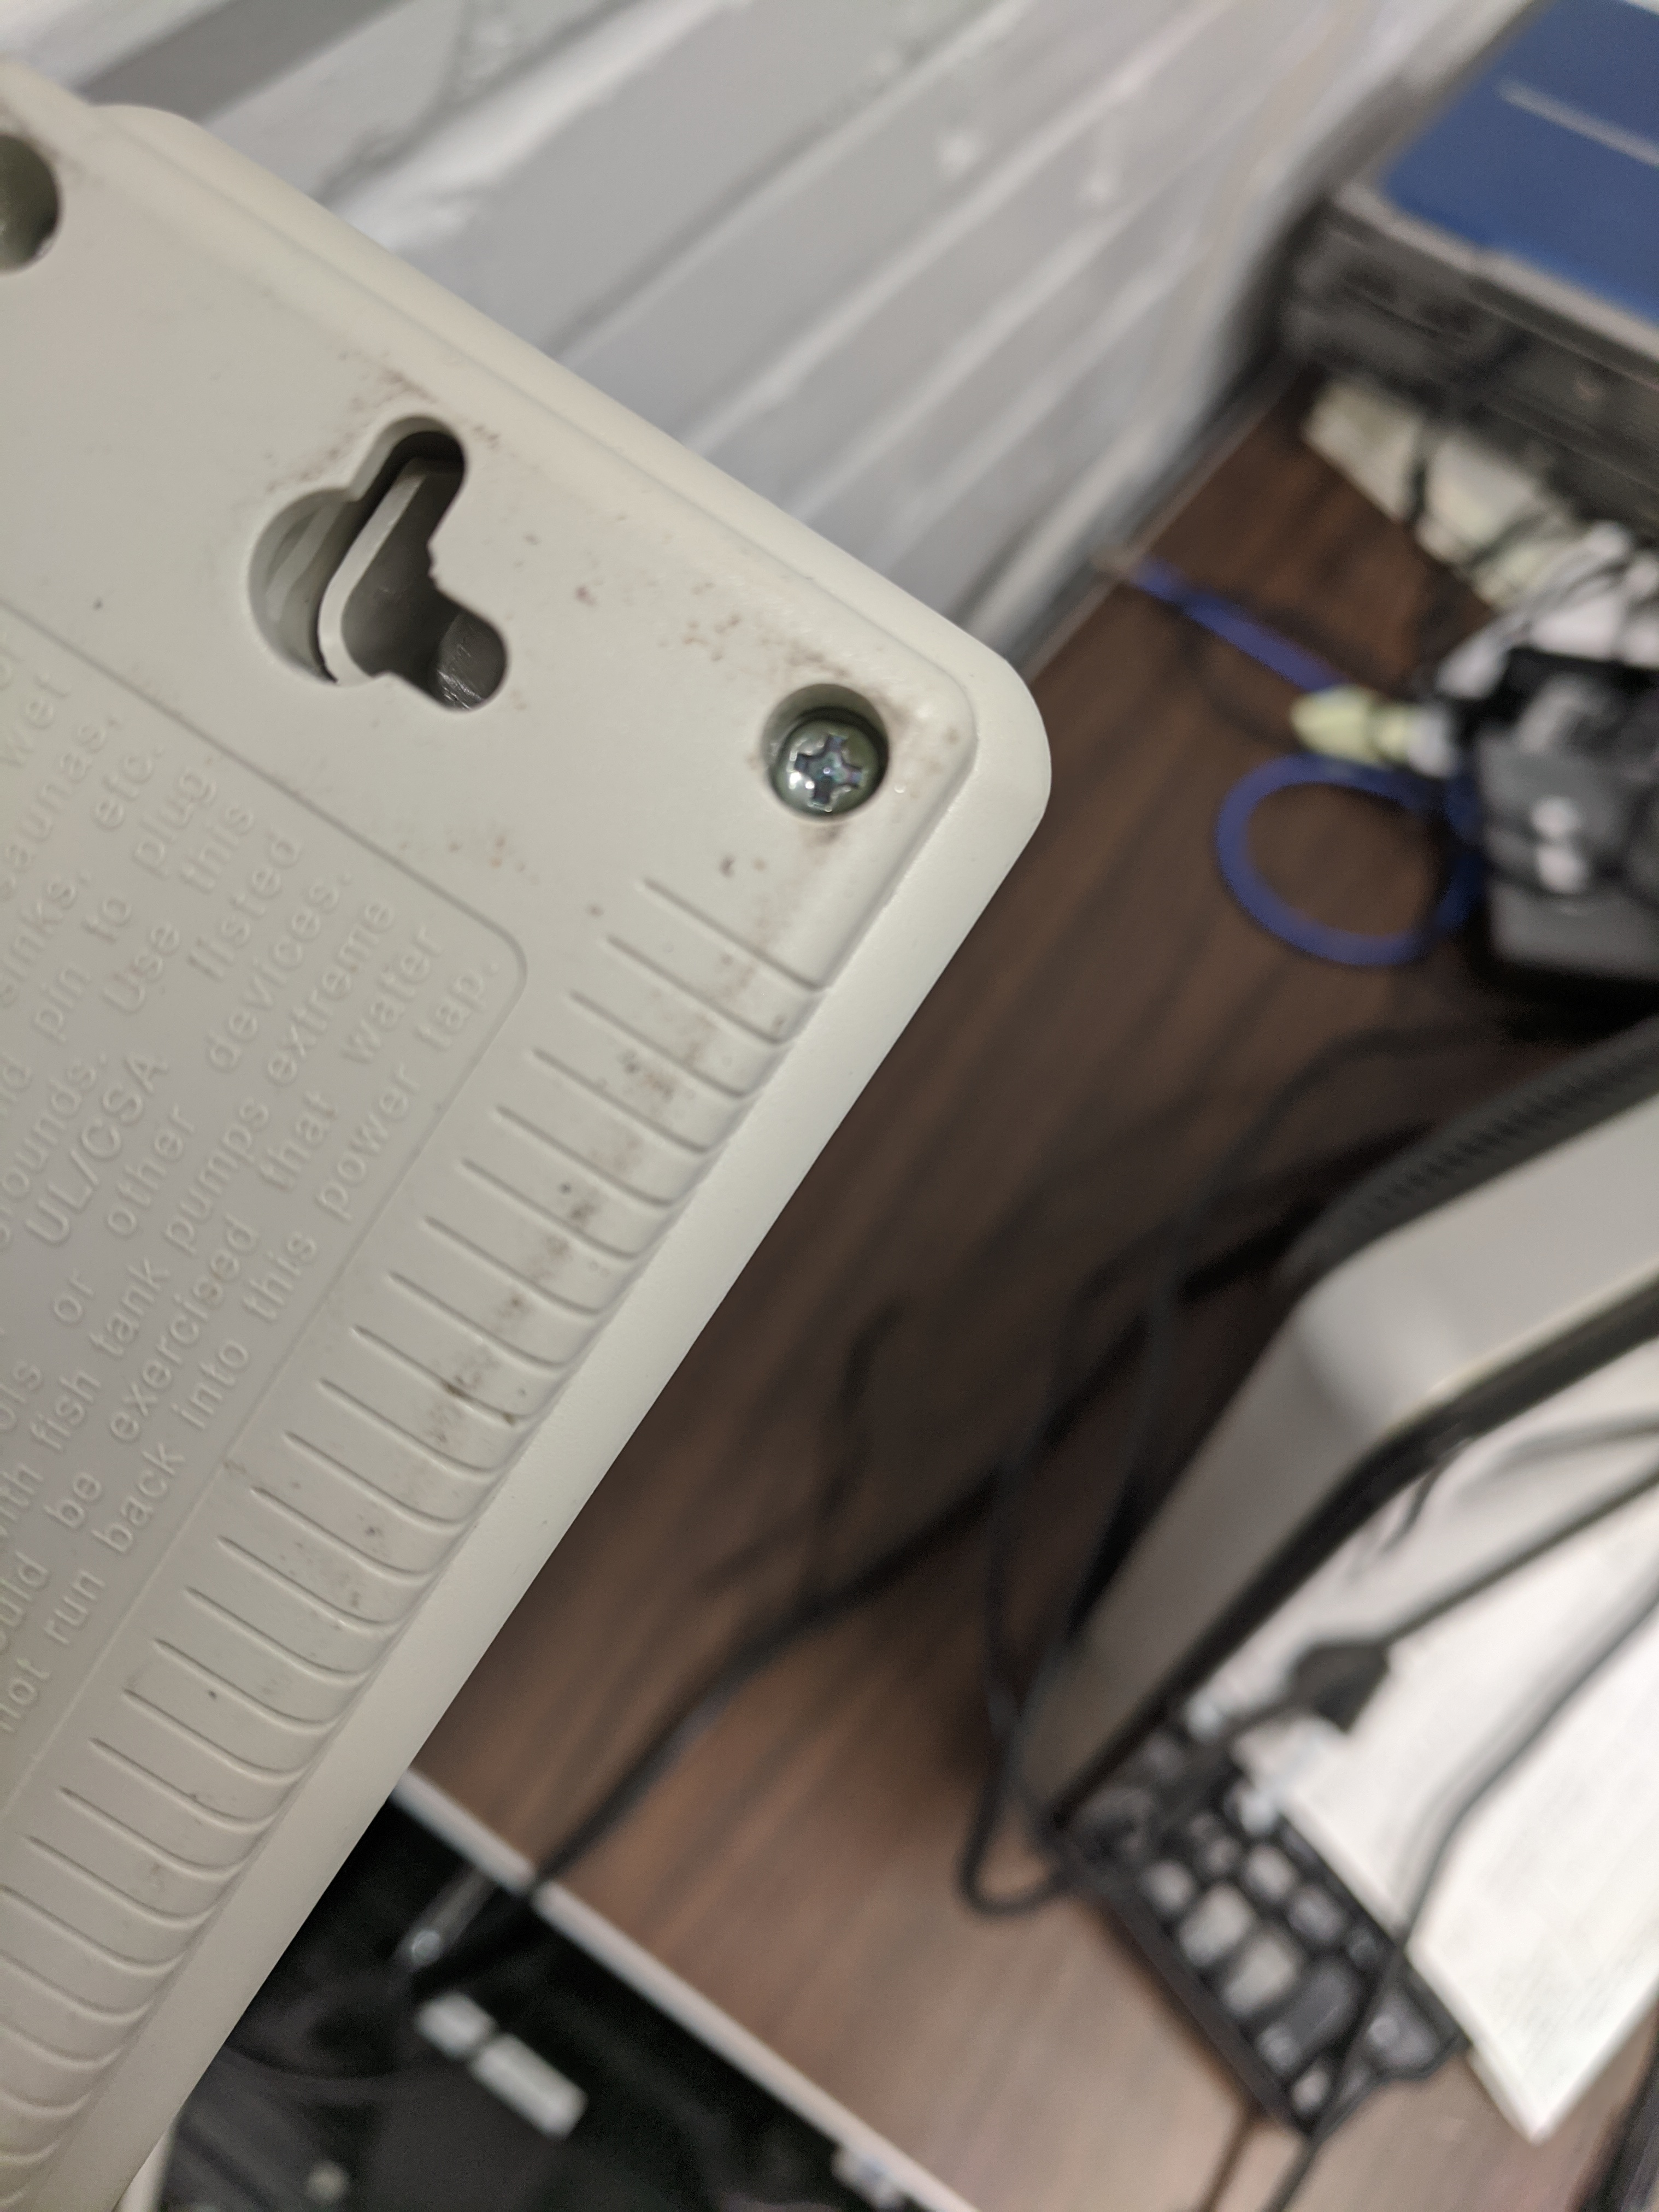cross_recessed_screw: (753, 697, 884, 815)
